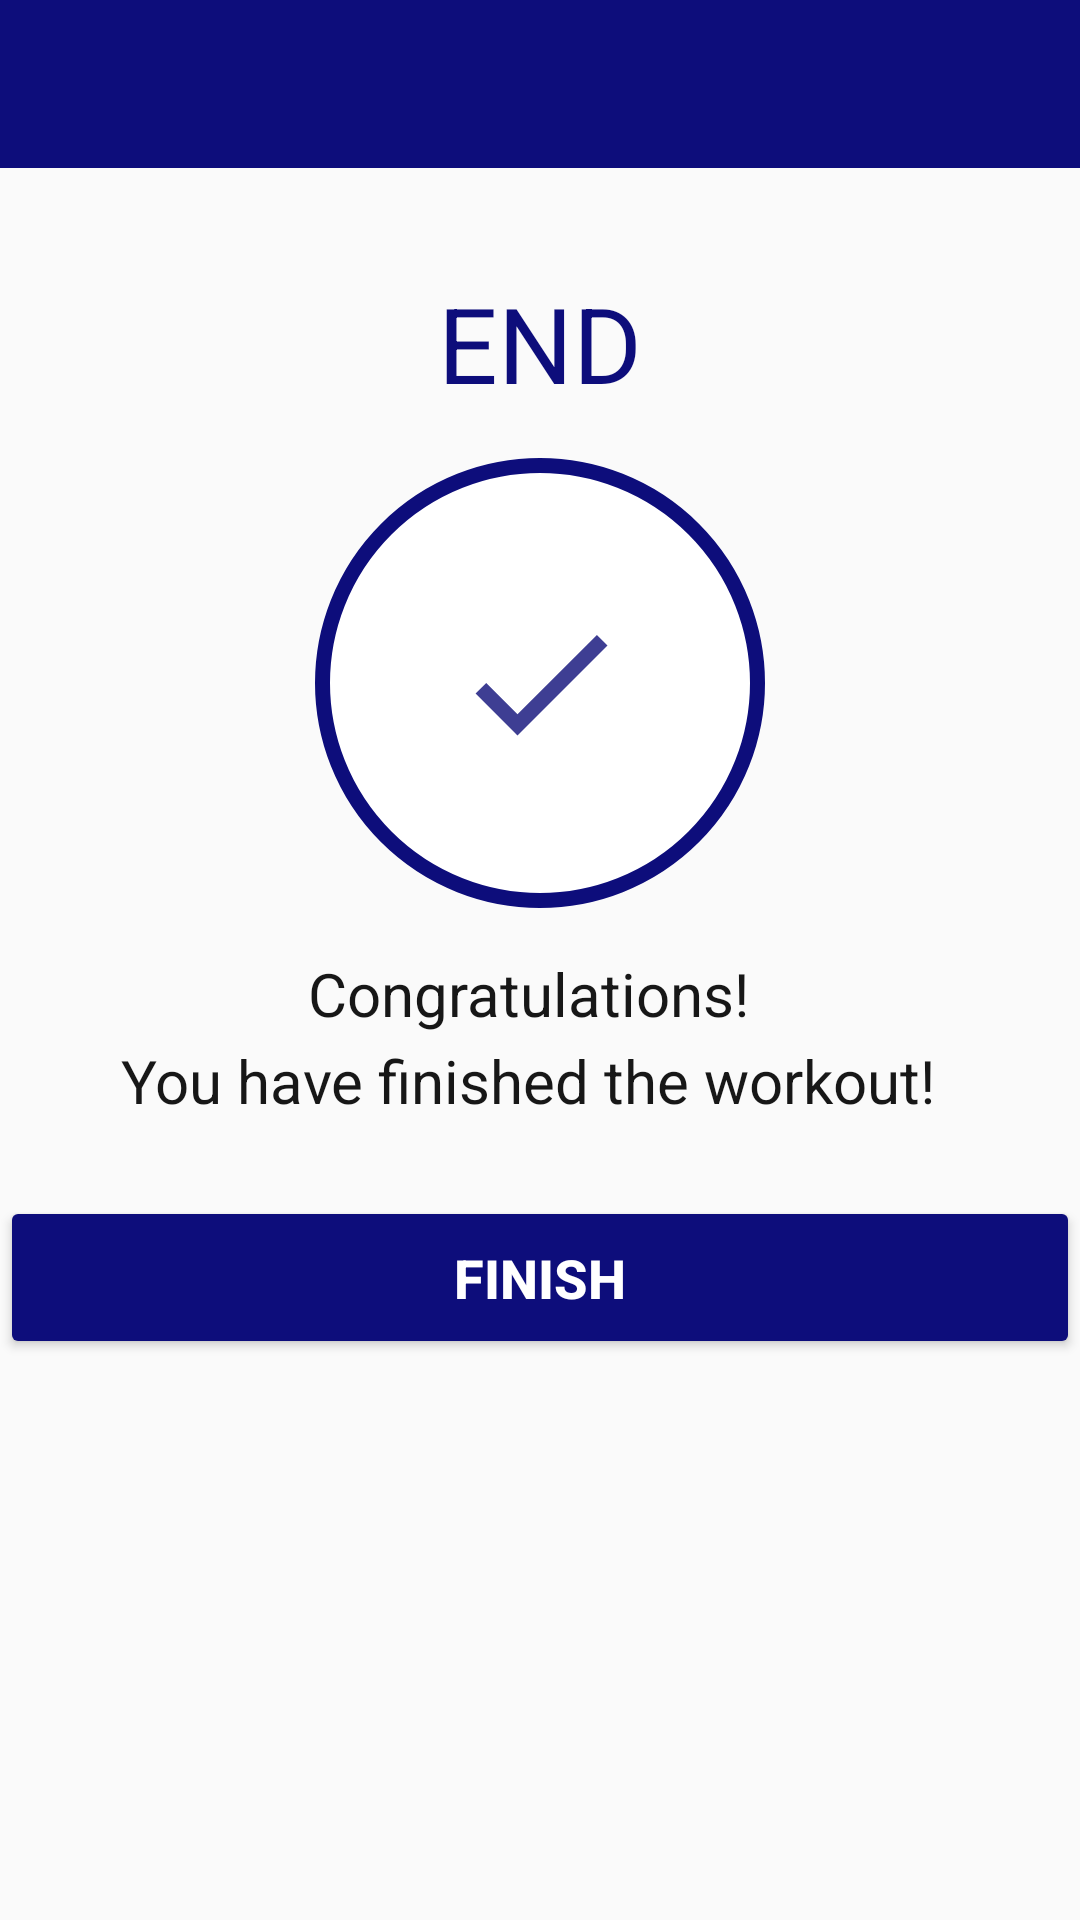

Screen size 1080px x 1920px. Icon name, then its box in pixels as (left=x1, top=y1, right=x2, bottom=y2):
check: (left=475, top=635, right=608, bottom=736)
